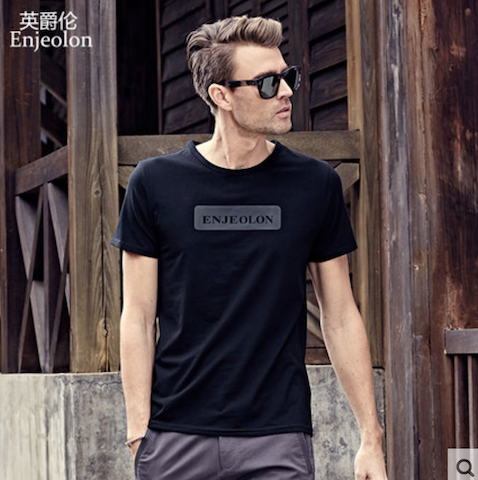clothes: (106, 144, 376, 436)
